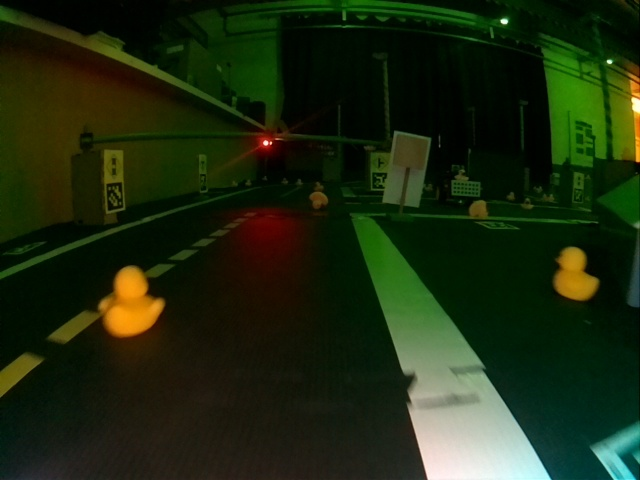Duckie: (101, 264, 165, 333), (553, 246, 591, 300), (470, 199, 487, 218), (310, 192, 328, 205), (454, 169, 469, 181), (523, 198, 534, 209)
Intersection sign: (373, 154, 386, 170)
QR code: (106, 182, 124, 211), (479, 220, 514, 230), (371, 172, 387, 189), (198, 174, 206, 190)
Traffic light: (262, 135, 271, 147)
